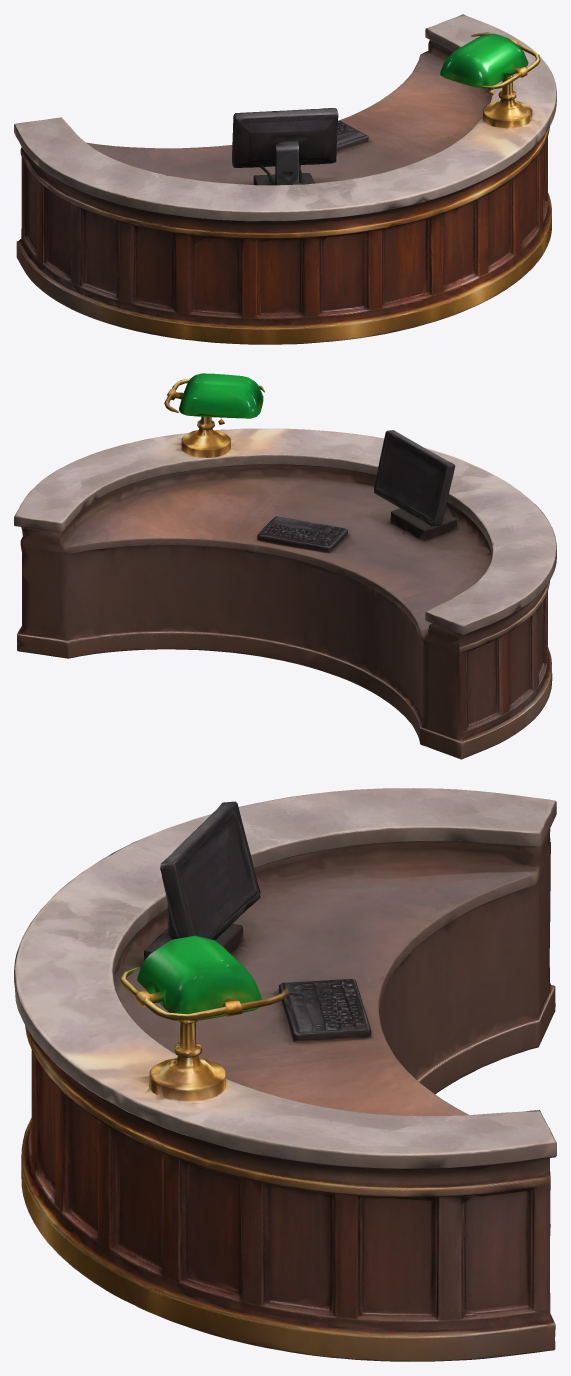
The model's file is reception-desk.glb.
The picture shows the model from 3 angles, top to bottom: view 1: azimuth 30°, elevation 25°; view 2: azimuth 150°, elevation 25°; view 3: azimuth 270°, elevation 25°; orthographic projection. The views are drawn at different scales.
Visible parts, largest first — view 1: tripo_node_bbaad7af-40cd-4f8e-bca5-42f7c5a5b89d; view 2: tripo_node_bbaad7af-40cd-4f8e-bca5-42f7c5a5b89d; view 3: tripo_node_bbaad7af-40cd-4f8e-bca5-42f7c5a5b89d.
Part boxes in pixels (x1,y1,x2,y2): tripo_node_bbaad7af-40cd-4f8e-bca5-42f7c5a5b89d: (14,14,556,344); tripo_node_bbaad7af-40cd-4f8e-bca5-42f7c5a5b89d: (14,373,556,759); tripo_node_bbaad7af-40cd-4f8e-bca5-42f7c5a5b89d: (14,788,556,1361).
Bounding box in the file's own units: 1 × 0.4181 × 0.6239.
1 material, 1 textured.
